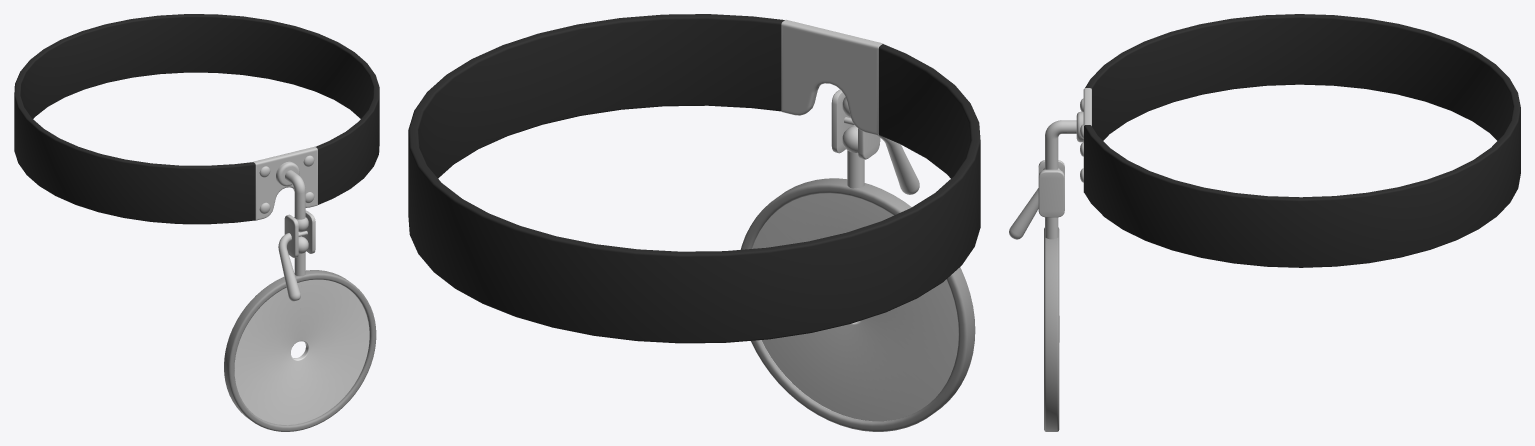
The model's file is medical_head_mirror.fbx.
3 views of the same model, side by side, from view 1: azimuth 30°, elevation 25°; view 2: azimuth 150°, elevation 25°; view 3: azimuth 270°, elevation 25° (orthographic). The views are drawn at different scales.
Visible parts, largest first — view 1: medical_head_mirror; view 2: medical_head_mirror; view 3: medical_head_mirror.
Part boxes in pixels (x1=…): medical_head_mirror: x1=14, y1=14, x2=379, y2=431; medical_head_mirror: x1=408, y1=14, x2=980, y2=431; medical_head_mirror: x1=1009, y1=14, x2=1520, y2=431.
Bounding box in the file's own units: 34.62 × 27.38 × 40.18.
Materials: 1 (1 with a texture image).
